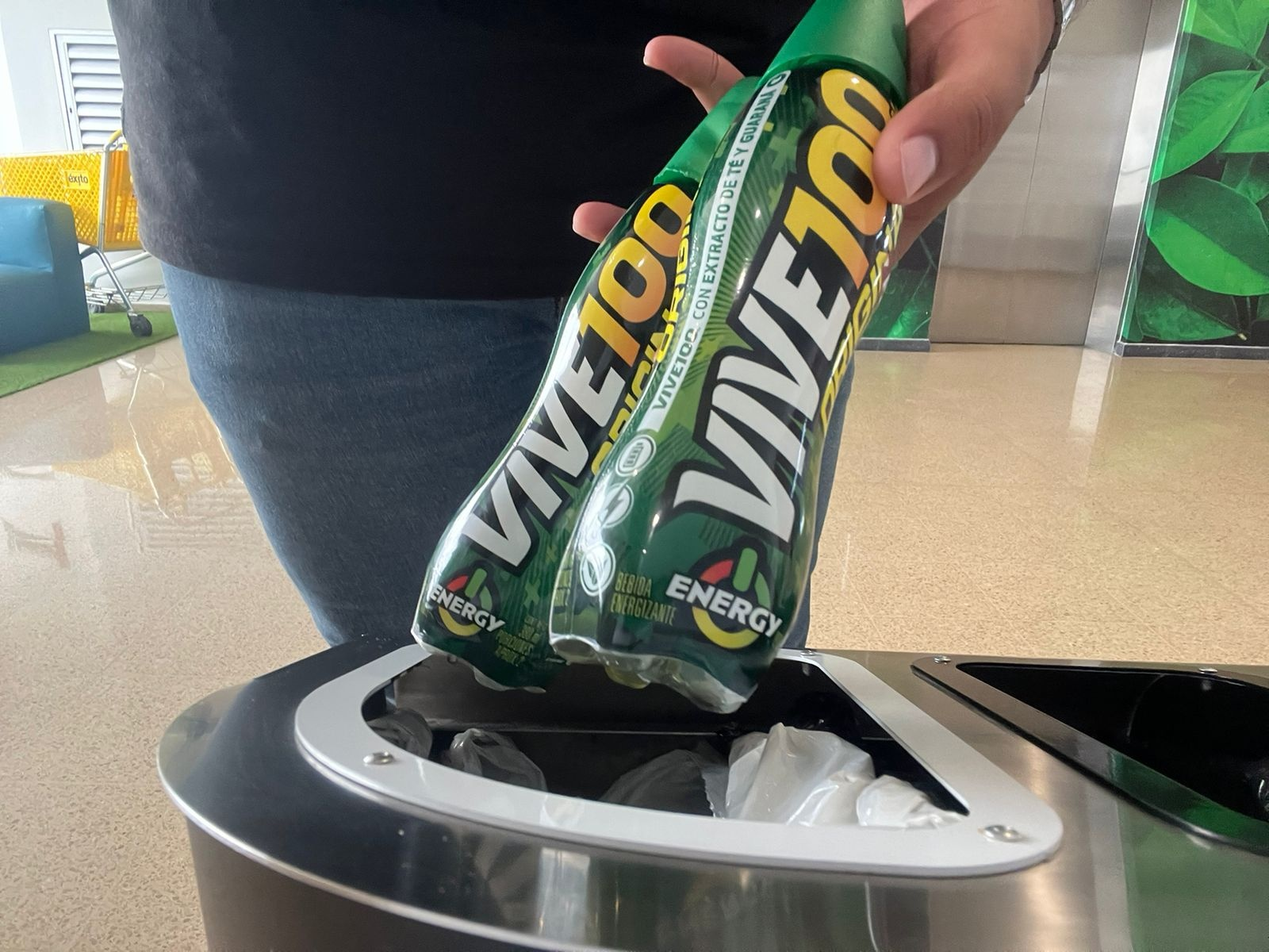Plastico: (409, 0, 919, 713)
